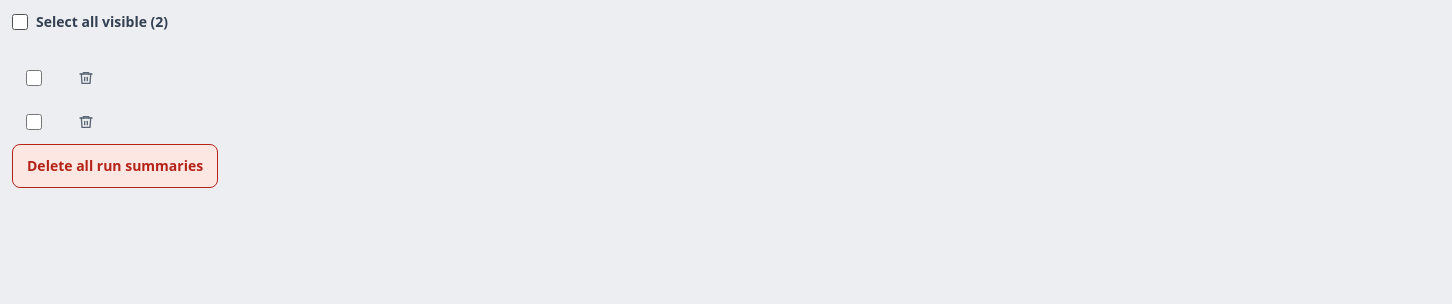
Test: RunHistoryAdminControls › reflects a partial row selection as an indeterminate select-all control
Click the checkbox named "Select run 55555555-5555-4555-8555-555555555555". click: {"x": 34, "y": 78}
box: left=26, top=70, right=42, bottom=86
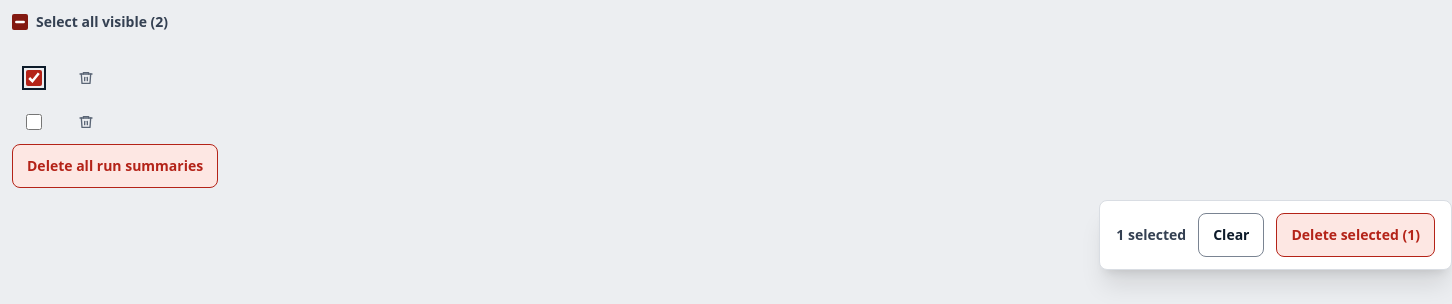
Expected: the checkbox named "Select all visible runs" is not checked, left=12, top=14, right=28, bottom=30
Click the checkbox named "Select run 66666666-6666-4666-8666-666666666666". click: {"x": 34, "y": 122}
box: left=26, top=114, right=42, bottom=130
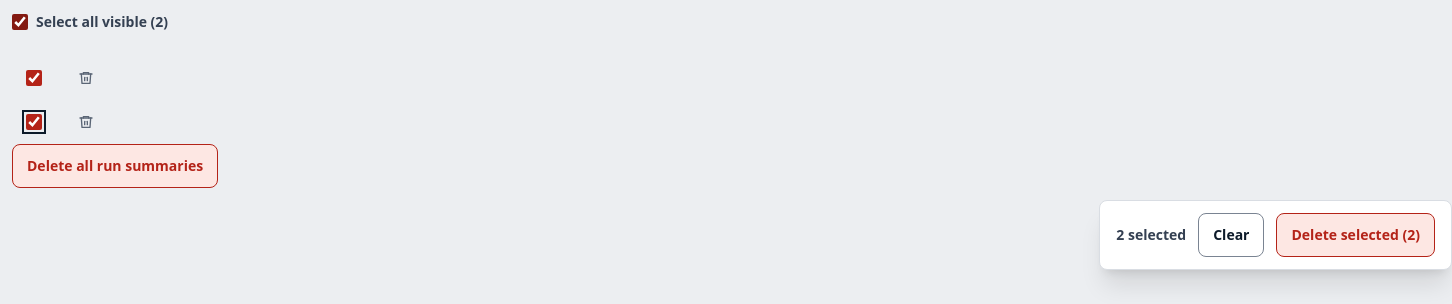
Expected: the checkbox named "Select all visible runs" is checked, left=12, top=14, right=28, bottom=30
